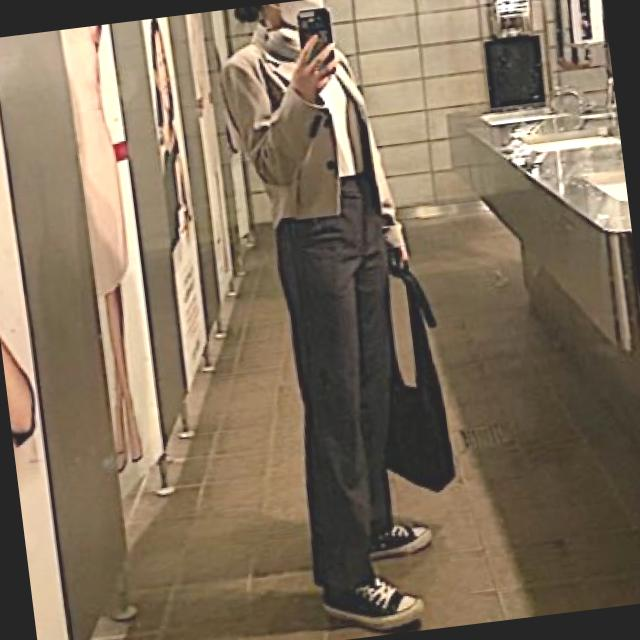blazer: (212, 11, 394, 232)
denimpants: (266, 170, 428, 592)
